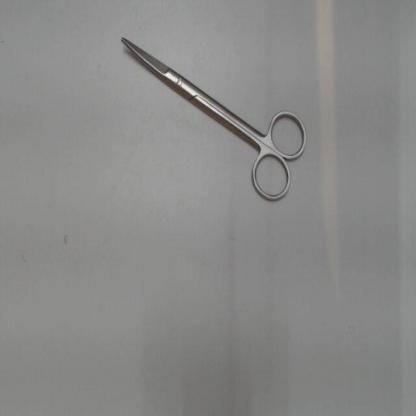Curved Mayo Scissors: (116, 29, 314, 207)
